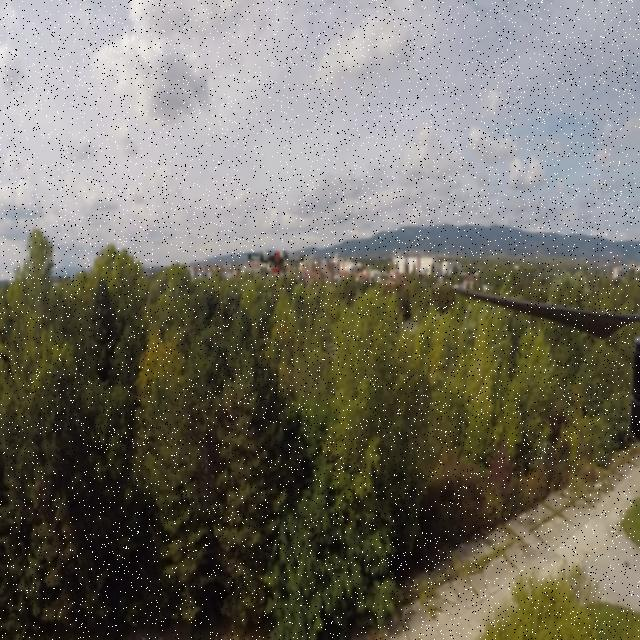UAV: (240, 244, 308, 298)
